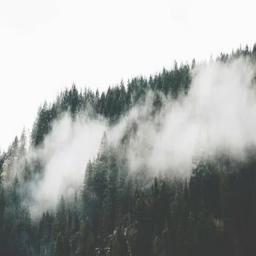Low smoke: (144, 74, 253, 185), (19, 102, 107, 218)
